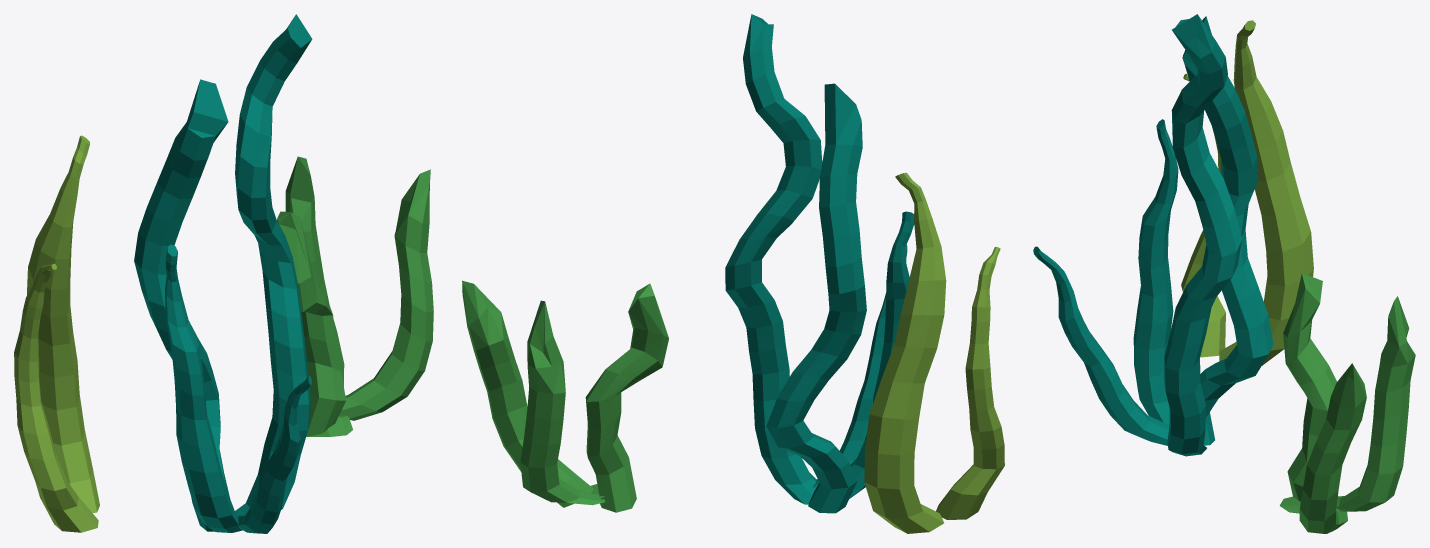
The model's file is modelDraco.gltf.
The picture shows the model from 3 angles, left to right: view 1: azimuth 30°, elevation 25°; view 2: azimuth 150°, elevation 25°; view 3: azimuth 270°, elevation 25°; orthographic projection. The views are drawn at different scales.
Visible parts, largest first — view 1: node_MeshObject-675790336-PolyPaper10; view 2: node_MeshObject-675790336-PolyPaper10; view 3: node_MeshObject-675790336-PolyPaper10.
Boxes of the visible parts, x1,y1,x2,y2 form: node_MeshObject-675790336-PolyPaper10: [14, 14, 433, 533]; node_MeshObject-675790336-PolyPaper10: [462, 14, 1004, 533]; node_MeshObject-675790336-PolyPaper10: [1033, 14, 1415, 533].
Bounding box in the file's own units: 0.8397 × 0.8167 × 0.6104.
